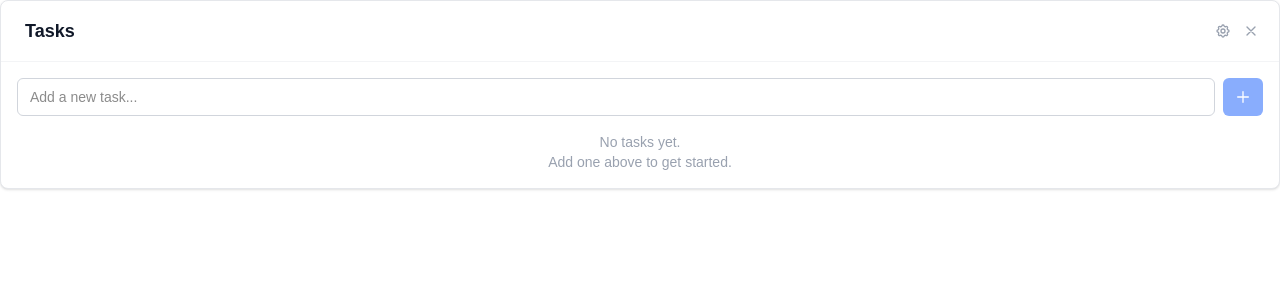
it: TasksWidget › task creation › should add a new task when user types and presses enter
Type "New task" into the field with placeholder "Add a new task...". click: [616, 97]
box: [17, 78, 1215, 116]
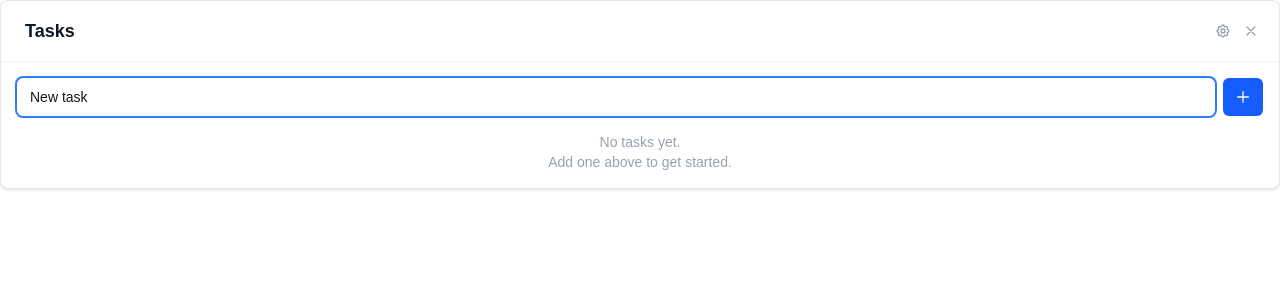
Press Enter
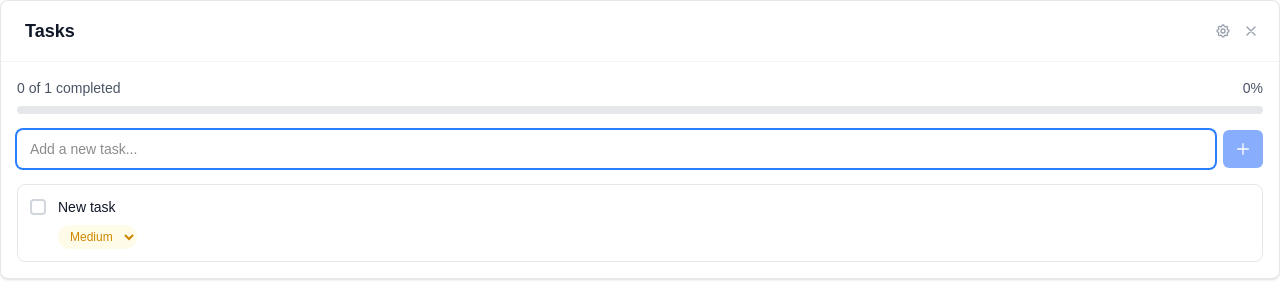
Result: the text "New task" is shown at [58, 199, 116, 215]
